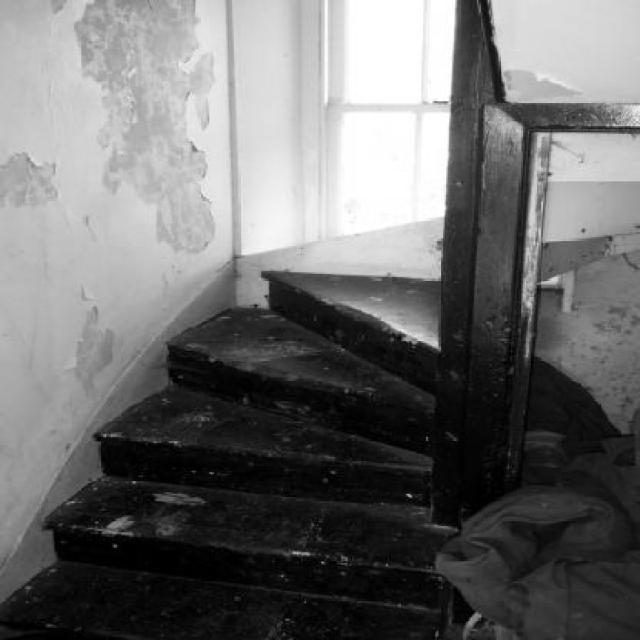stair: (0, 275, 437, 640)
